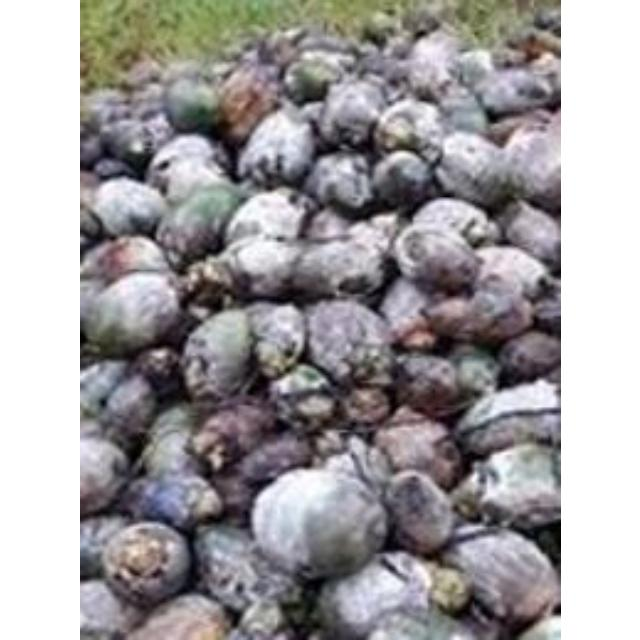damaged: (250, 462, 384, 578), (441, 525, 555, 629), (314, 554, 431, 640), (80, 271, 184, 357), (459, 443, 558, 531), (195, 524, 288, 614), (98, 519, 192, 607), (455, 379, 559, 457), (302, 299, 392, 387), (178, 308, 260, 402), (424, 283, 530, 347), (158, 186, 246, 262), (434, 132, 520, 208), (496, 108, 558, 212), (286, 236, 386, 300), (236, 108, 314, 188), (374, 416, 460, 488), (380, 471, 454, 554), (218, 235, 308, 303), (192, 402, 274, 470), (392, 226, 476, 292), (145, 134, 229, 198), (125, 592, 227, 640), (316, 78, 382, 148), (494, 200, 560, 270), (390, 351, 462, 415), (403, 196, 491, 248), (226, 189, 310, 243), (372, 99, 446, 160), (268, 364, 338, 428), (303, 150, 373, 213), (366, 148, 434, 212), (248, 302, 306, 376), (90, 178, 164, 235), (85, 234, 168, 284), (79, 435, 129, 515), (472, 244, 544, 298), (478, 70, 556, 119), (234, 438, 304, 486), (162, 74, 218, 132), (499, 331, 559, 383), (80, 515, 128, 577), (404, 33, 458, 85), (448, 347, 498, 398), (283, 57, 337, 103)
